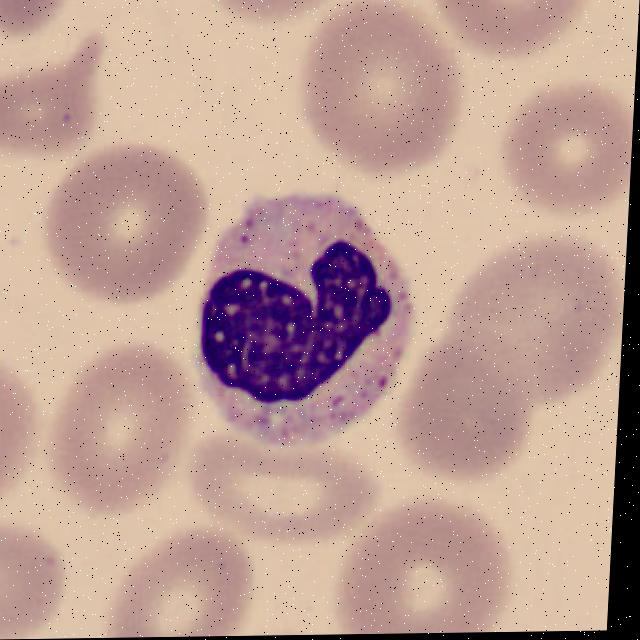neutrophil: (189, 177, 425, 448)
rbc: (25, 129, 227, 310), (268, 0, 467, 181), (443, 223, 628, 406), (322, 492, 526, 635), (44, 332, 194, 515), (399, 323, 553, 470), (182, 437, 392, 544), (501, 65, 636, 205), (0, 34, 134, 158), (108, 534, 259, 638), (419, 0, 601, 66), (0, 510, 72, 640), (0, 359, 45, 498), (179, 0, 353, 28)
